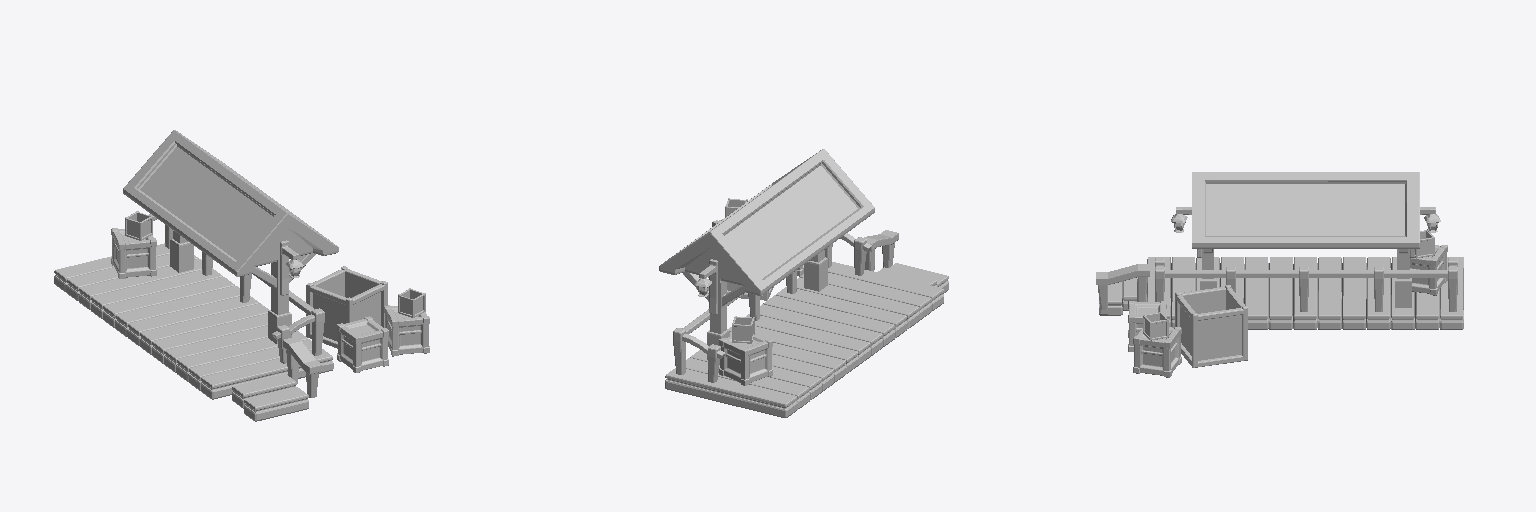
File: SM_gare_ressource.obj
3 views of the same model, side by side, from view 1: azimuth 30°, elevation 25°; view 2: azimuth 150°, elevation 25°; view 3: azimuth 270°, elevation 25° (orthographic).
Parts seen in each view (by area): view 1: porche, cagette.001, casse, barriere.001, planche.001, casse.002, casse.001, planche.008, planche.006, planche.007, planche.012, planche.005 (+13 smaller); view 2: porche, planche.014, barriere.001, casse.002, planche.004, planche.006, planche.003, planche.005, planche.001, planche.002, planche.016, planche.007 (+7 smaller); view 3: porche, cagette.001, barriere.001, casse.001, planche.008, planche.007, planche.006, planche.004, planche.005, planche.012, barriere, casse.002 (+8 smaller).
Part boxes in pixels (x1,y1,x2,y2): porche: (123, 130, 338, 343); cagette.001: (306, 266, 387, 348); casse: (337, 316, 388, 372); barriere.001: (149, 214, 324, 363); planche.001: (201, 349, 333, 399); casse.002: (111, 228, 156, 278); casse.001: (384, 305, 429, 356); planche.008: (103, 277, 234, 327); planche.006: (139, 303, 268, 354); planche.007: (115, 286, 239, 336); planche.012: (91, 268, 222, 318); planche.005: (127, 296, 259, 345); porche: (659, 149, 874, 359); planche.014: (665, 368, 797, 417); barriere.001: (673, 233, 871, 382); casse.002: (719, 333, 772, 385); planche.004: (763, 295, 895, 346); planche.006: (760, 304, 882, 355); planche.003: (776, 287, 907, 337); planche.005: (746, 314, 870, 364); planche.001: (828, 262, 943, 310); planche.002: (797, 277, 919, 328); planche.016: (800, 273, 931, 319); planche.007: (729, 326, 858, 373); porche: (1192, 172, 1419, 307); cagette.001: (1175, 285, 1247, 367); barriere.001: (1155, 258, 1457, 311); casse.001: (1133, 327, 1181, 377); planche.008: (1342, 257, 1366, 329); planche.007: (1318, 257, 1341, 329); planche.006: (1269, 257, 1292, 329); planche.004: (1244, 257, 1268, 329); planche.005: (1293, 257, 1317, 329); planche.012: (1366, 257, 1390, 329); barriere: (1096, 264, 1149, 309); casse.002: (1410, 245, 1447, 295).
Bounding box in the file's own units: 4.4 × 2.97 × 6.34.